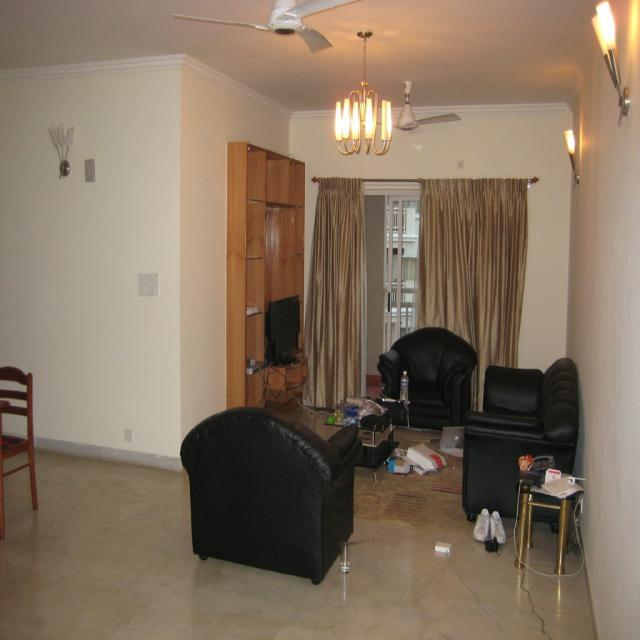fan_off: (170, 0, 362, 52), (367, 87, 465, 135)
